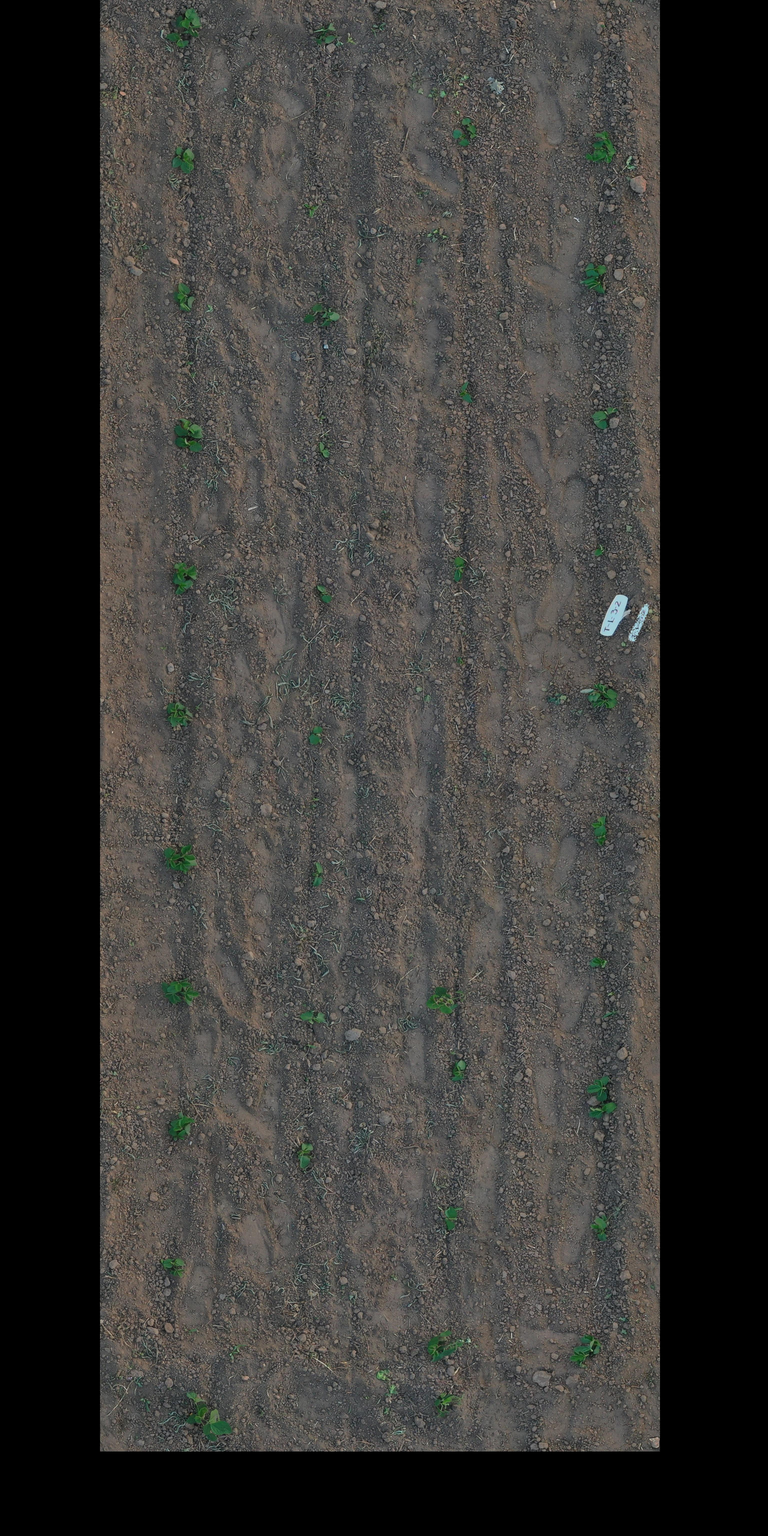s: (185, 1391, 233, 1442), (427, 1330, 465, 1363), (424, 986, 465, 1014), (586, 1076, 610, 1102), (174, 418, 203, 439), (180, 980, 200, 1007), (592, 131, 617, 152), (434, 1392, 455, 1417), (176, 283, 196, 309), (161, 981, 182, 1005), (588, 1102, 617, 1119), (296, 1142, 314, 1169), (180, 16, 202, 38), (175, 8, 198, 29), (166, 977, 192, 994), (174, 437, 203, 452), (303, 303, 323, 324), (572, 1339, 600, 1354), (179, 844, 198, 866), (170, 702, 186, 728), (594, 682, 617, 700), (166, 32, 190, 49), (164, 846, 181, 870), (180, 147, 195, 174), (174, 575, 194, 595), (170, 1118, 191, 1137), (173, 290, 191, 312), (320, 308, 340, 327), (174, 708, 194, 727), (569, 1350, 590, 1368), (592, 406, 618, 420), (444, 1205, 458, 1231), (581, 280, 605, 295), (299, 1011, 326, 1024), (458, 381, 473, 404), (311, 861, 324, 887), (172, 562, 187, 584), (170, 860, 192, 875), (593, 825, 608, 847), (451, 1059, 466, 1081), (594, 1217, 607, 1242), (453, 556, 465, 583), (316, 584, 332, 604), (579, 269, 600, 284), (580, 688, 601, 703), (592, 697, 618, 709), (580, 1334, 602, 1348), (452, 129, 470, 146), (168, 1126, 188, 1141), (313, 22, 336, 35), (584, 262, 607, 275), (178, 1111, 196, 1127), (309, 726, 323, 746), (590, 414, 607, 430), (172, 146, 184, 168), (592, 146, 608, 162), (461, 117, 476, 134), (313, 34, 336, 45), (589, 956, 608, 968), (183, 565, 198, 580), (585, 149, 602, 162), (166, 702, 176, 724), (163, 1258, 185, 1268), (602, 148, 615, 164), (318, 442, 330, 458), (590, 816, 606, 828), (599, 1215, 608, 1236), (170, 1266, 185, 1278), (594, 544, 606, 557), (160, 1258, 168, 1271), (590, 1224, 601, 1233), (187, 157, 194, 171), (452, 1061, 459, 1074), (456, 656, 464, 665), (468, 132, 476, 139)
